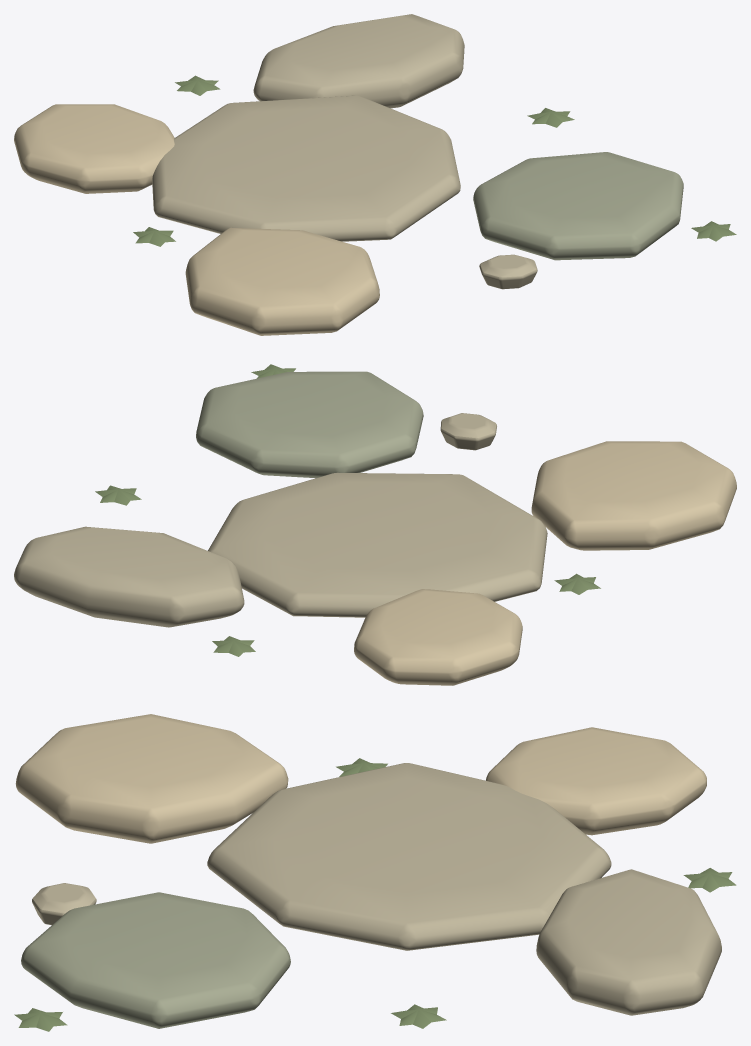
The model's file is cozy_path.glb.
3 views of the same model, one above another, from view 1: azimuth 30°, elevation 25°; view 2: azimuth 150°, elevation 25°; view 3: azimuth 270°, elevation 25° (orthographic). The views are drawn at different scales.
Parts seen in each view (by area): view 1: path_PathStone, path_PathLight, path_PathShadow, path_CreviceMoss; view 2: path_PathStone, path_PathLight, path_PathShadow, path_CreviceMoss; view 3: path_PathStone, path_PathLight, path_PathShadow, path_CreviceMoss.
Boxes of the visible parts, x1=… form: path_PathStone: x1=152, y1=14, x2=537, y2=289; path_PathLight: x1=14, y1=104, x2=379, y2=335; path_PathShadow: x1=473, y1=152, x2=683, y2=260; path_CreviceMoss: x1=133, y1=75, x2=736, y2=246; path_PathStone: x1=14, y1=413, x2=547, y2=627; path_PathLight: x1=354, y1=441, x2=736, y2=685; path_PathShadow: x1=196, y1=371, x2=423, y2=478; path_CreviceMoss: x1=95, y1=364, x2=600, y2=656; path_PathStone: x1=32, y1=763, x2=721, y2=1015; path_PathLight: x1=15, y1=714, x2=706, y2=843; path_PathShadow: x1=21, y1=892, x2=290, y2=1028; path_CreviceMoss: x1=14, y1=758, x2=736, y2=1031.
Size of the model in its own units: 0.877 by 0.071 by 0.9182.
